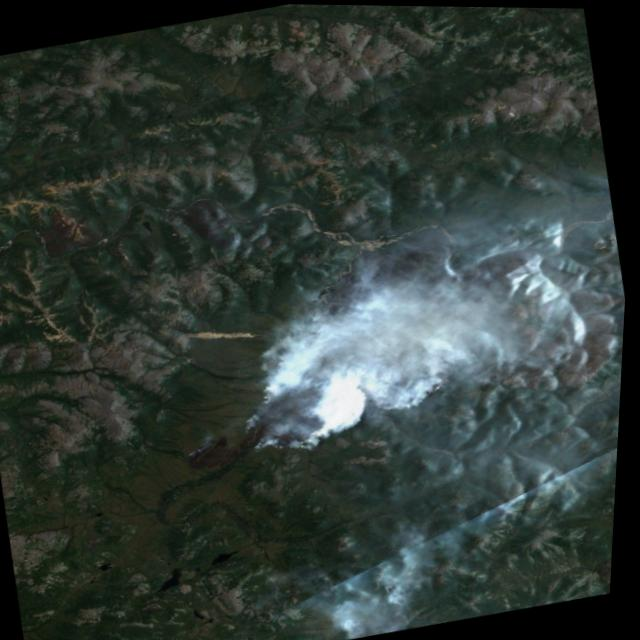fire: (220, 309, 474, 473)
